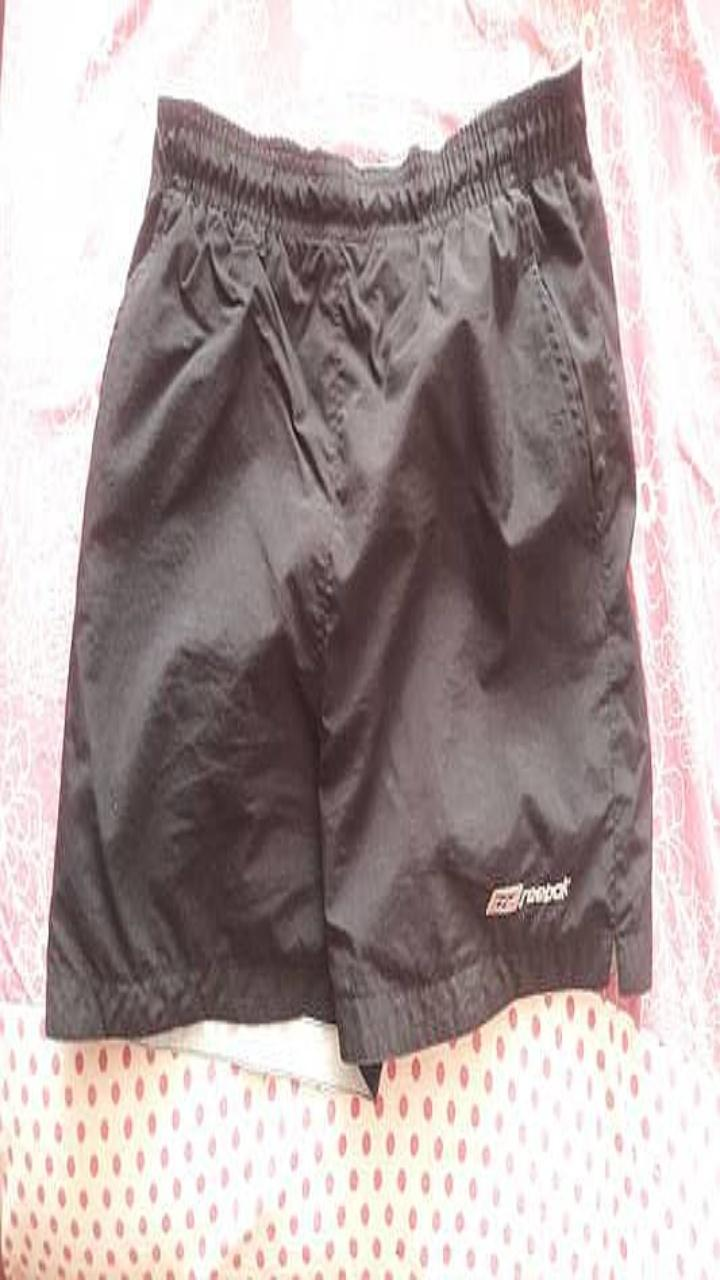Shorts: (46, 62, 651, 1093)
